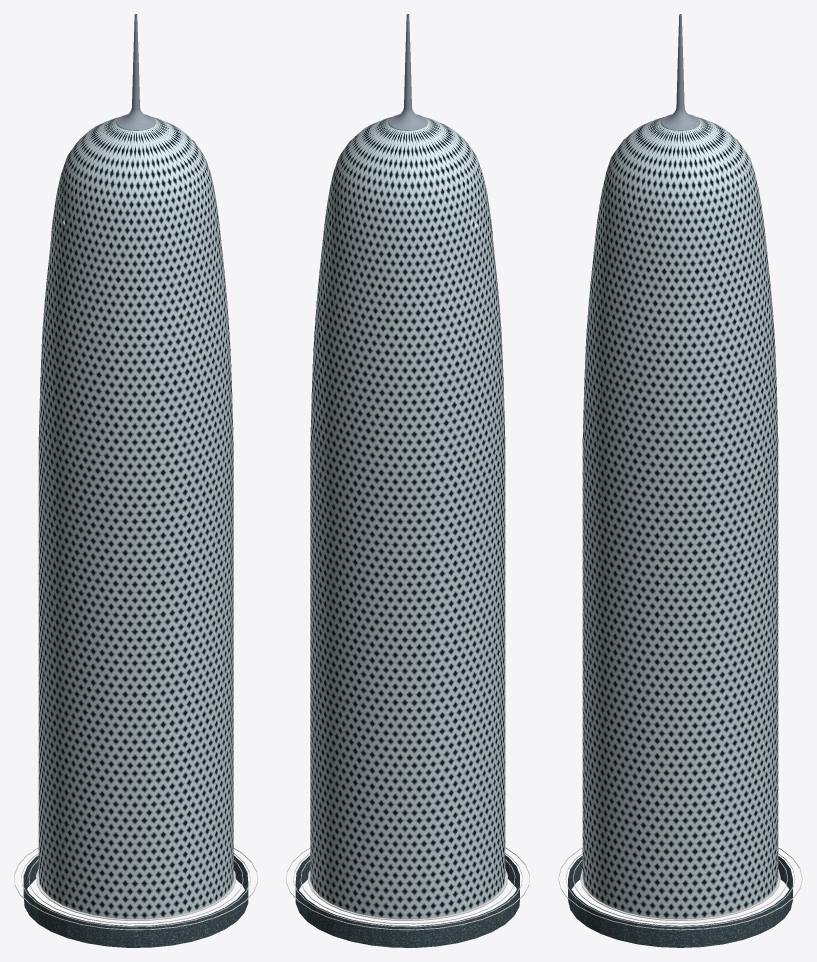
The model's file is doha_tower_low.glb.
3 views of the same model, side by side, from view 1: azimuth 30°, elevation 25°; view 2: azimuth 150°, elevation 25°; view 3: azimuth 270°, elevation 25° (orthographic).
Visible parts, largest first — view 1: Doha_493, Doha_519, Doha_roof_base, Doha_506; view 2: Doha_493, Doha_519, Doha_roof_base, Doha_506; view 3: Doha_493, Doha_519, Doha_roof_base, Doha_506.
Boxes of the visible parts, x1,y1,x2,y2 form: Doha_493: [38, 117, 233, 919]; Doha_519: [23, 855, 248, 947]; Doha_roof_base: [14, 847, 257, 930]; Doha_506: [116, 14, 155, 130]; Doha_493: [310, 117, 505, 919]; Doha_519: [295, 855, 519, 947]; Doha_roof_base: [286, 847, 529, 930]; Doha_506: [388, 14, 427, 130]; Doha_493: [582, 117, 778, 919]; Doha_519: [568, 856, 792, 947]; Doha_roof_base: [558, 847, 802, 930]; Doha_506: [660, 14, 700, 130].
Bounding box in the file's own units: 59.65 × 239 × 59.65.
Materials: 3 (3 with a texture image).
